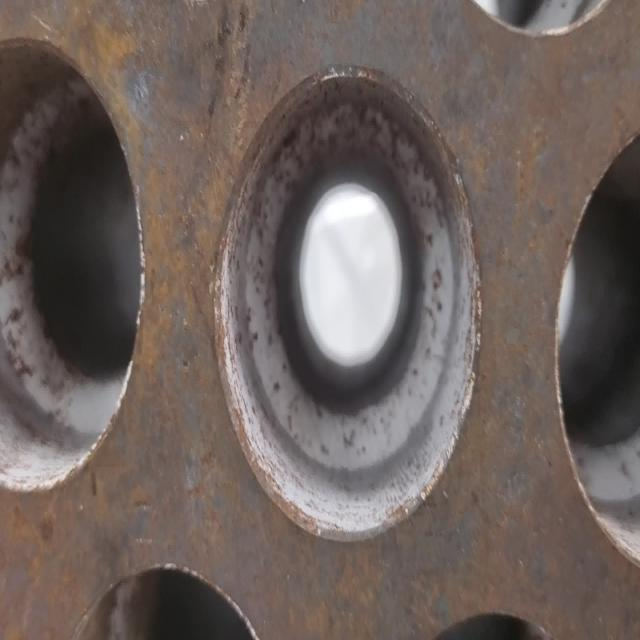Hole: (210, 62, 481, 536), (0, 6, 146, 498), (556, 69, 640, 628), (63, 562, 280, 638), (451, 1, 628, 36), (404, 610, 577, 640)
